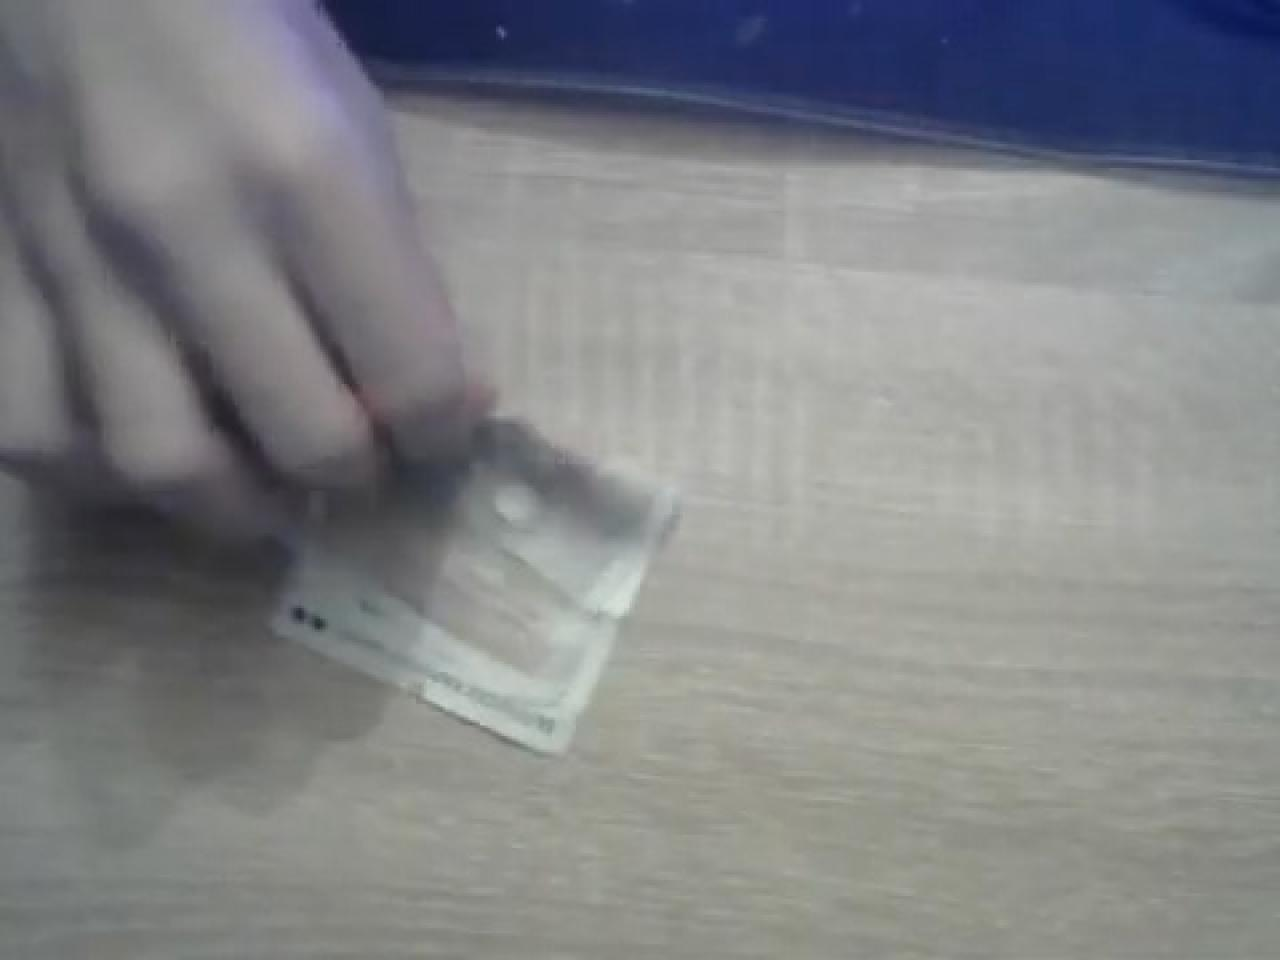10leva: (264, 405, 682, 757)
